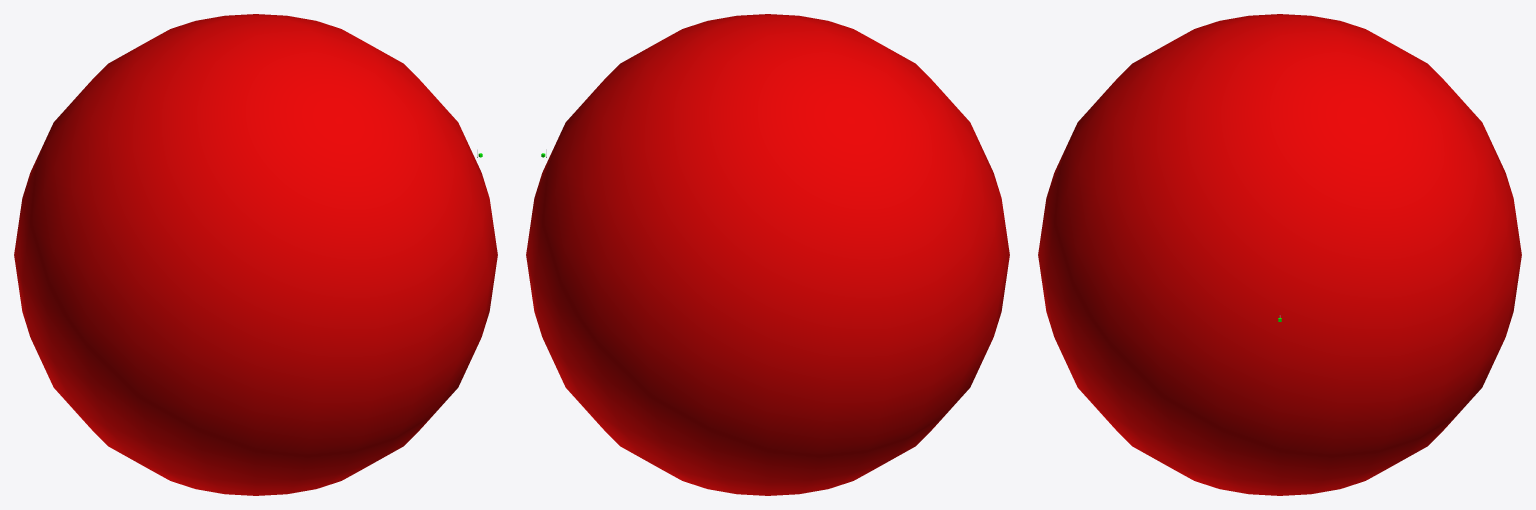
The model's file is ball2.dae.
The picture shows the model from 3 angles, left to right: view 1: azimuth 30°, elevation 25°; view 2: azimuth 150°, elevation 25°; view 3: azimuth 270°, elevation 25°; orthographic projection.
Parts seen in each view (by area): view 1: Sphere; view 2: Sphere; view 3: Sphere.
Boxes of the visible parts, left/top/right/bottom form: Sphere: left=14, top=14, right=497, bottom=495; Sphere: left=526, top=14, right=1009, bottom=495; Sphere: left=1038, top=14, right=1521, bottom=495.
Size of the model in its own units: 335 by 322 by 322.
